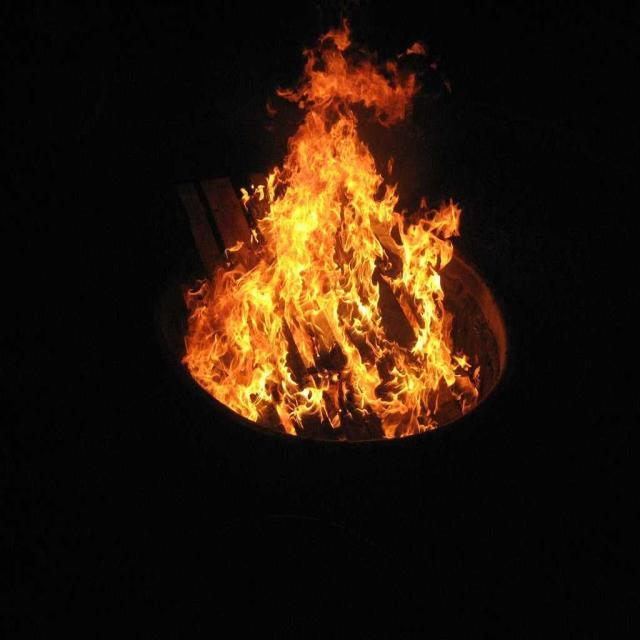Fire: (250, 162, 385, 406)
